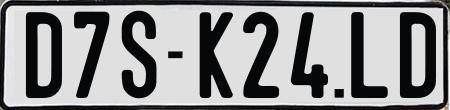2: (240, 11, 279, 97)
4: (291, 12, 328, 99)
7: (73, 9, 109, 100)
D: (24, 10, 63, 98), (398, 10, 436, 98)
K: (198, 11, 235, 100)
L: (350, 10, 388, 102)
S: (119, 10, 157, 102)
